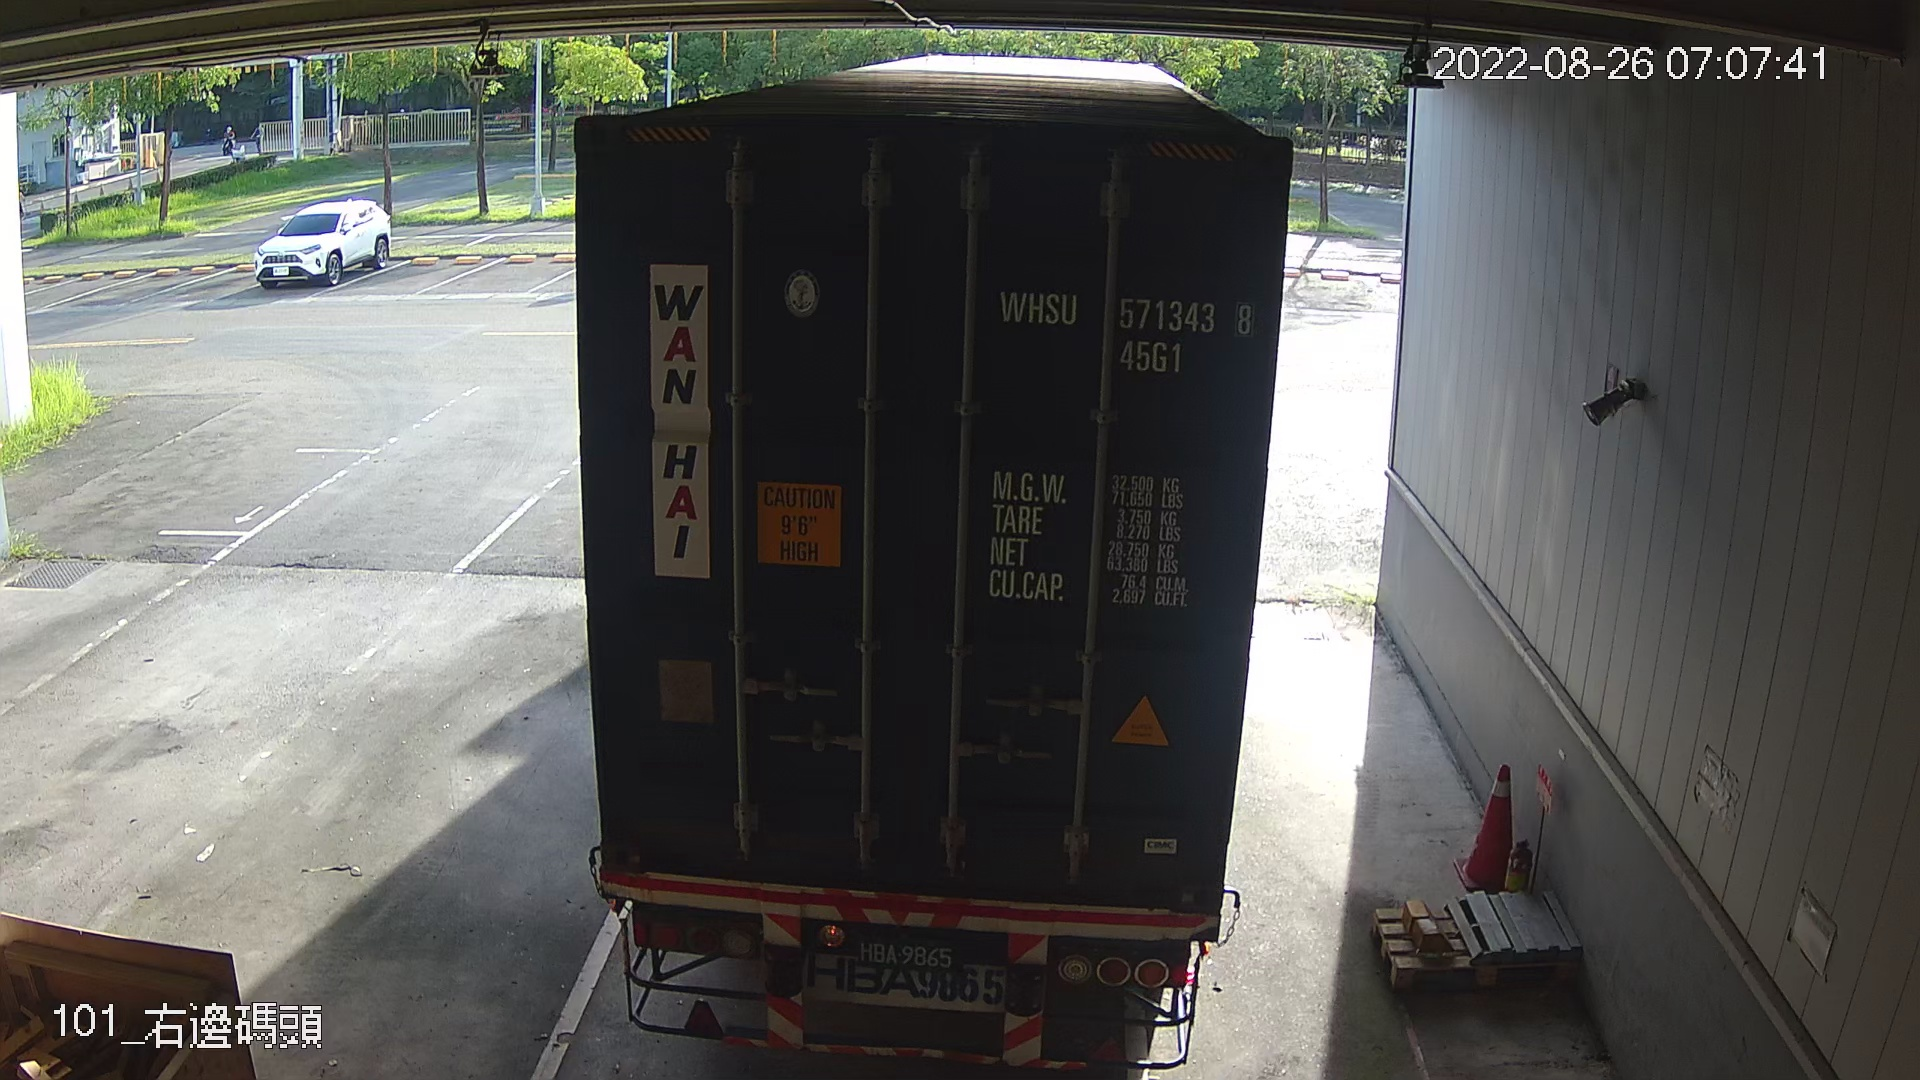container: (981, 270, 1263, 386)
